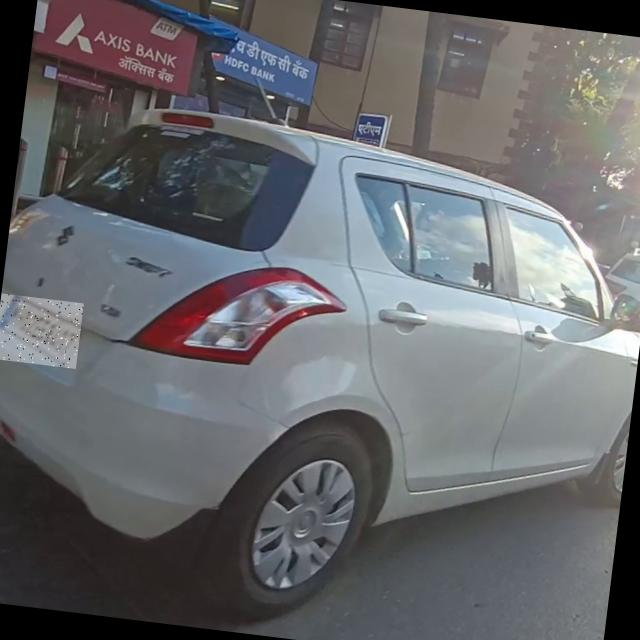Plate: (1, 293, 84, 369)
